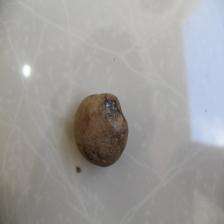Diseased-fungal potato: (72, 91, 130, 168)
